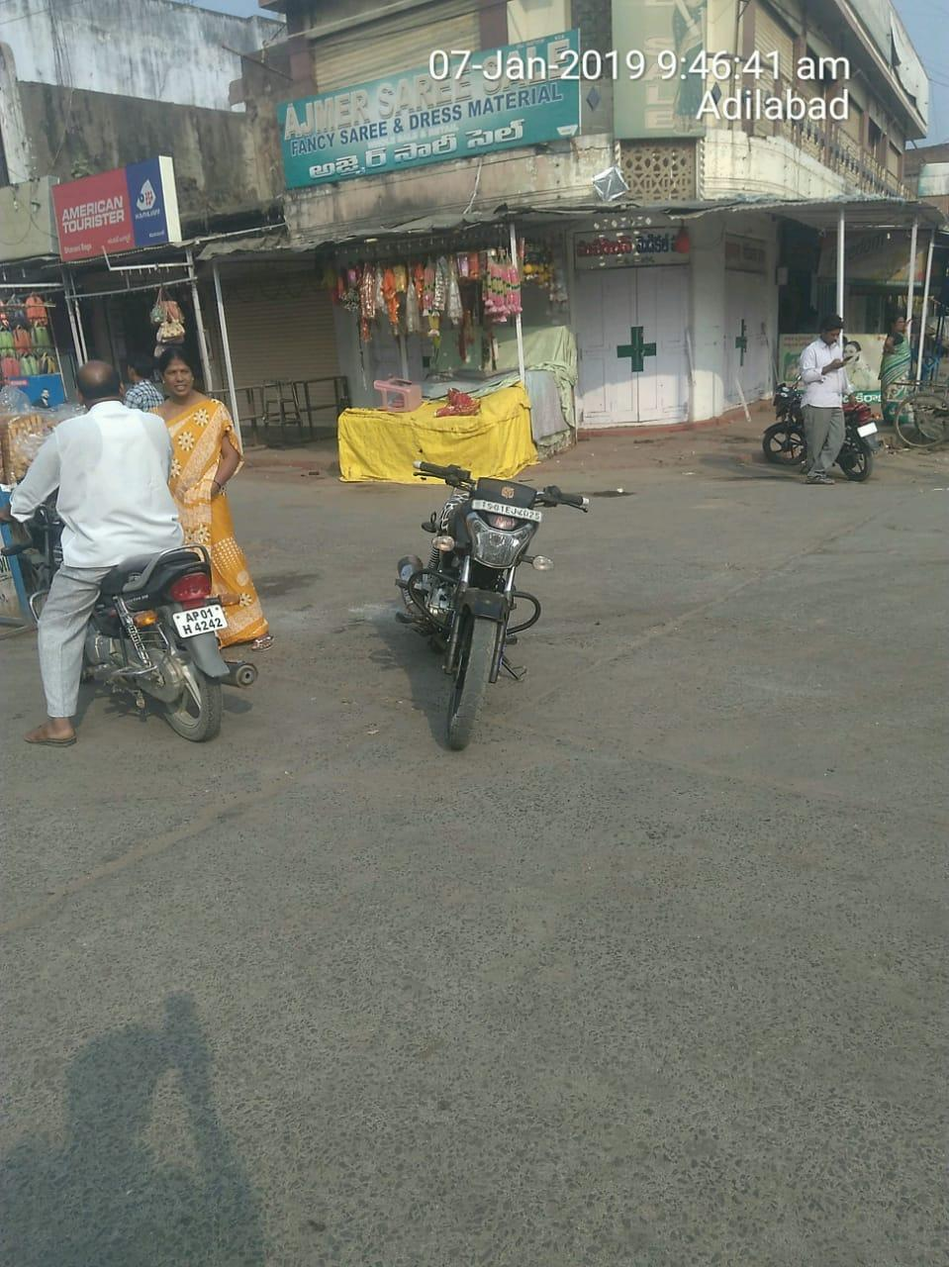plate: (166, 600, 232, 642), (467, 493, 546, 528)
